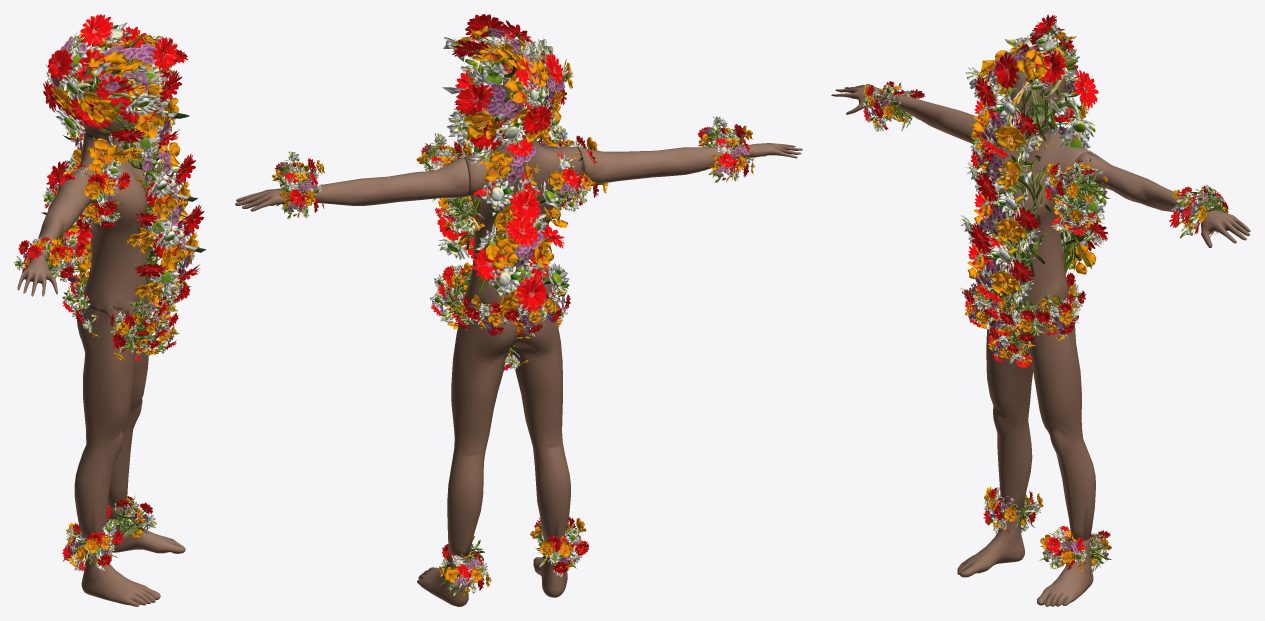
Rendered from flowerman.glb.
3 views of the same model, side by side, from view 1: azimuth 30°, elevation 25°; view 2: azimuth 150°, elevation 25°; view 3: azimuth 270°, elevation 25° (orthographic). The views are drawn at different scales.
Parts seen in each view (by area): view 1: BezierCurve, flowerman; view 2: BezierCurve, flowerman; view 3: BezierCurve, flowerman.
Part boxes in pixels (box(x1,y1,x2,y2)): BezierCurve: box(14, 14, 206, 571); flowerman: box(17, 64, 185, 606); BezierCurve: box(271, 14, 754, 595); flowerman: box(235, 64, 802, 606); BezierCurve: box(862, 14, 1228, 574); flowerman: box(831, 58, 1250, 606).
Size of the model in its own units: 78.29 by 120 by 81.98.
2 materials, 2 textured.
